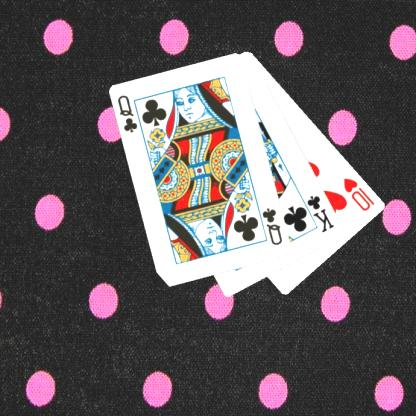10H: (341, 175, 376, 212)
KC: (298, 193, 336, 234)
QC: (260, 205, 284, 247), (115, 92, 139, 134)
